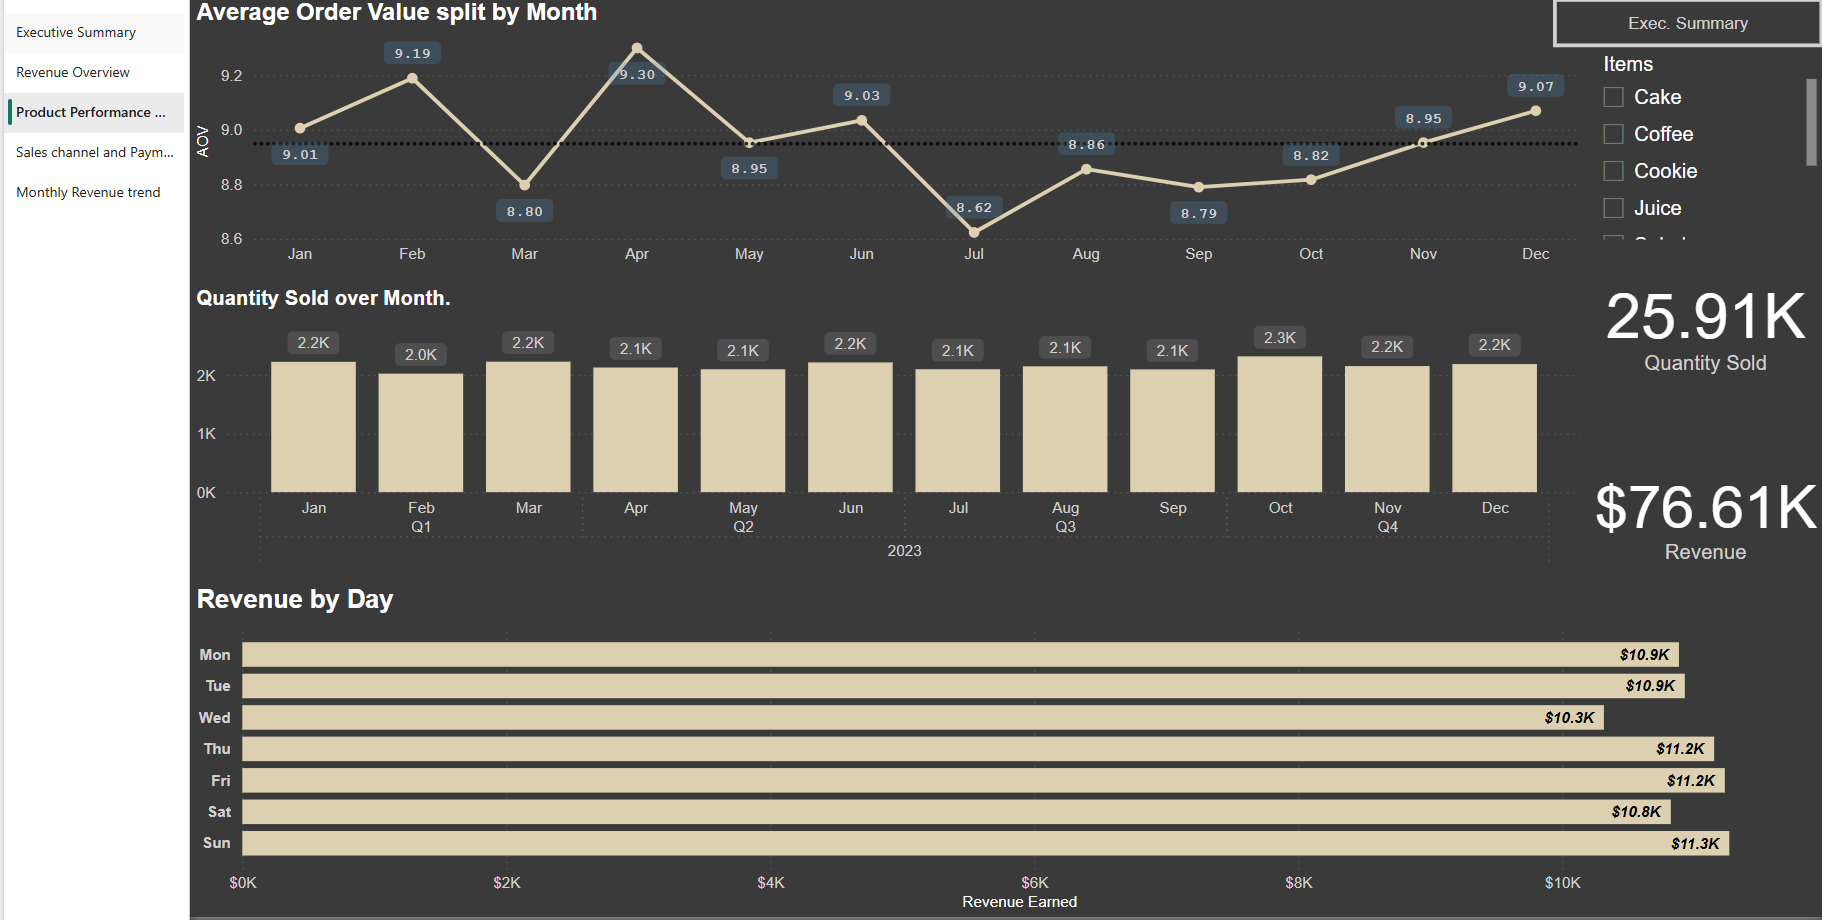

The dashboard page shown, as its layout file describes it:
{"tool":"powerbi","page":{"name":"Product Performance Overview","canvas":[1280,720],"ordinal":2},"visuals":[{"type":"lineChart","title":"Average Order Value split by Month","fields":{"Y":["_Measures.AOV"],"Category":["Date.Year Hierarchy.Year","Date.Year Hierarchy.Quarter","Date.Year Hierarchy.Month","Date.Year Hierarchy.Day"]},"box":[0,0,1095.1,216.8],"z":0},{"type":"slicer","fields":{"Values":["cafesales.item"]},"box":[1095.3,38.6,184.9,156.2],"z":1000},{"type":"card","fields":{"Values":["Sum(cafesales.quantity)"]},"box":[1095.5,194.4,184.5,120.4],"z":2000},{"type":"barChart","title":"Revenue by Day","fields":{"Category":["Date.Year Hierarchy.Day"],"Y":["Sum(cafesales.revenue)"]},"box":[0,460.3,1280,260.4],"z":3000},{"type":"clusteredColumnChart","title":"Quantity Sold over Month.","fields":{"Category":["Date.Year Hierarchy.Year","Date.Year Hierarchy.Quarter","Date.Year Hierarchy.Month","Date.Year Hierarchy.Day"],"Y":["Sum(cafesales.quantity)"]},"box":[0,226.8,1095.5,226.8],"z":4000},{"type":"card","fields":{"Values":["Sum(cafesales.revenue)"]},"box":[1095.5,325.7,184.5,157.9],"z":5000},{"type":"actionButton","title":"Exec. Summary","box":[1068.3,0,211.9,38.6],"z":7001}]}

Visuals, with their boxes on the page's 1280x720 design canvas (x1, y1, x2, y2). These are canvas units, not pixel positions in the 1822x920 screenshot, which may show the page scaled, cropped or inside an application window:
"Average Order Value split by Month" lineChart: BBox(0, 0, 1095, 217)
slicer - cafesales.item: BBox(1095, 39, 1280, 195)
card - Sum(cafesales.quantity): BBox(1096, 194, 1280, 315)
"Revenue by Day" barChart: BBox(0, 460, 1280, 721)
"Quantity Sold over Month." clusteredColumnChart: BBox(0, 227, 1096, 454)
card - Sum(cafesales.revenue): BBox(1096, 326, 1280, 484)
"Exec. Summary" actionButton: BBox(1068, 0, 1280, 39)
